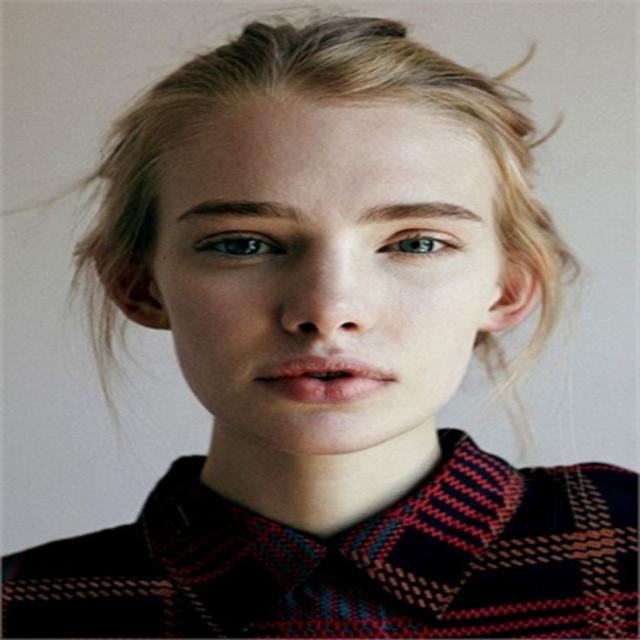earlobe: (92, 241, 172, 330), (478, 246, 544, 333)
